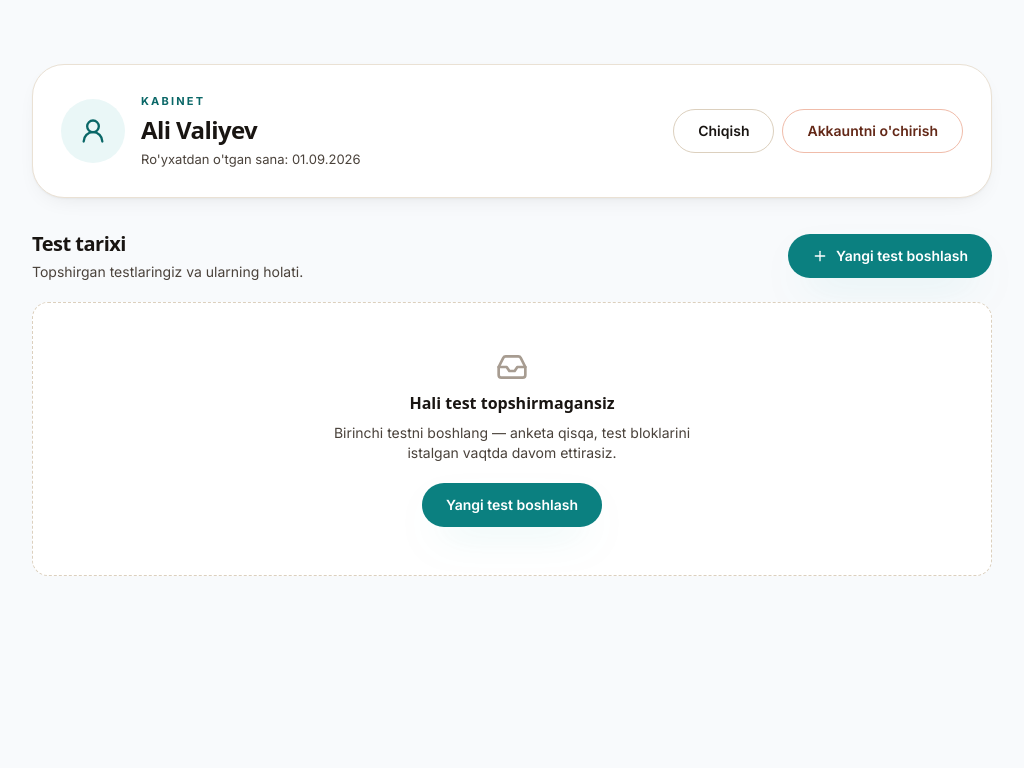
Test case: AccountPage › tasdiqlangach `DELETE /api/me` yuboriladi va sessiya tozalanadi
Expected: the text "Hali test topshirmagansiz" is shown, x1=409 y1=391 x2=615 y2=415
Step 1. Click the button "Akkauntni o'chirish" → x=873, y=131, box x1=782 y1=109 x2=963 y2=153
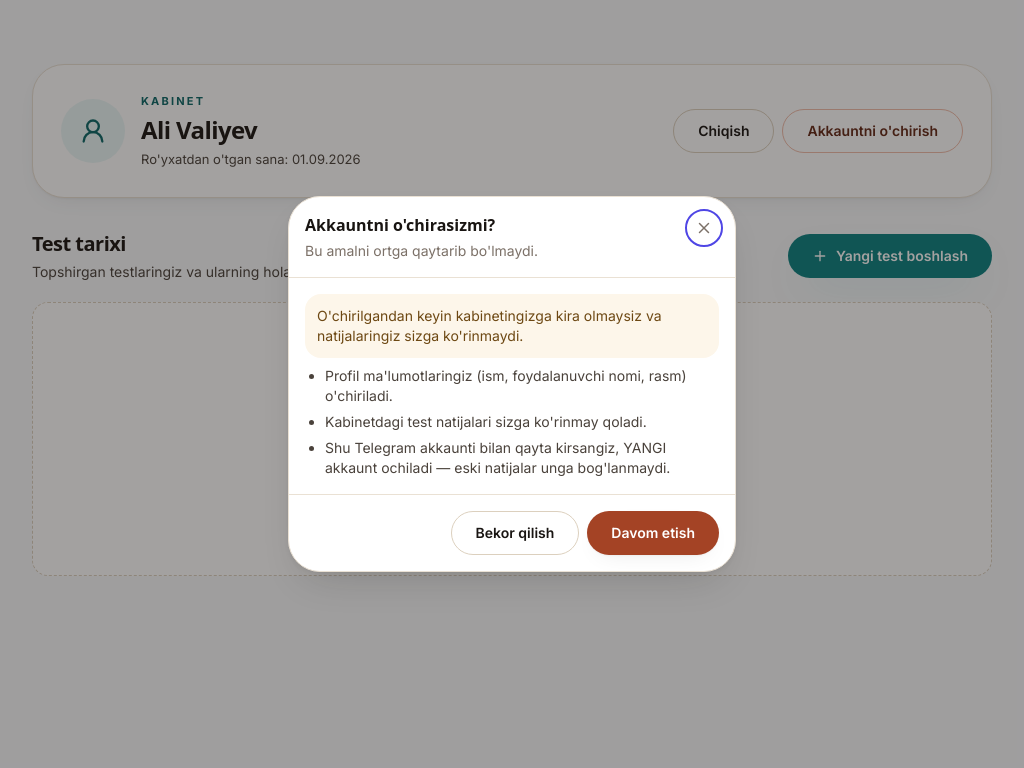
Note: 1-qadam — hozirgi oqibatlar tasdig'i, hali O'CHIRMAYDI.
Step 2. Click the button "Davom etish" → x=653, y=533, box x1=587 y1=511 x2=719 y2=555
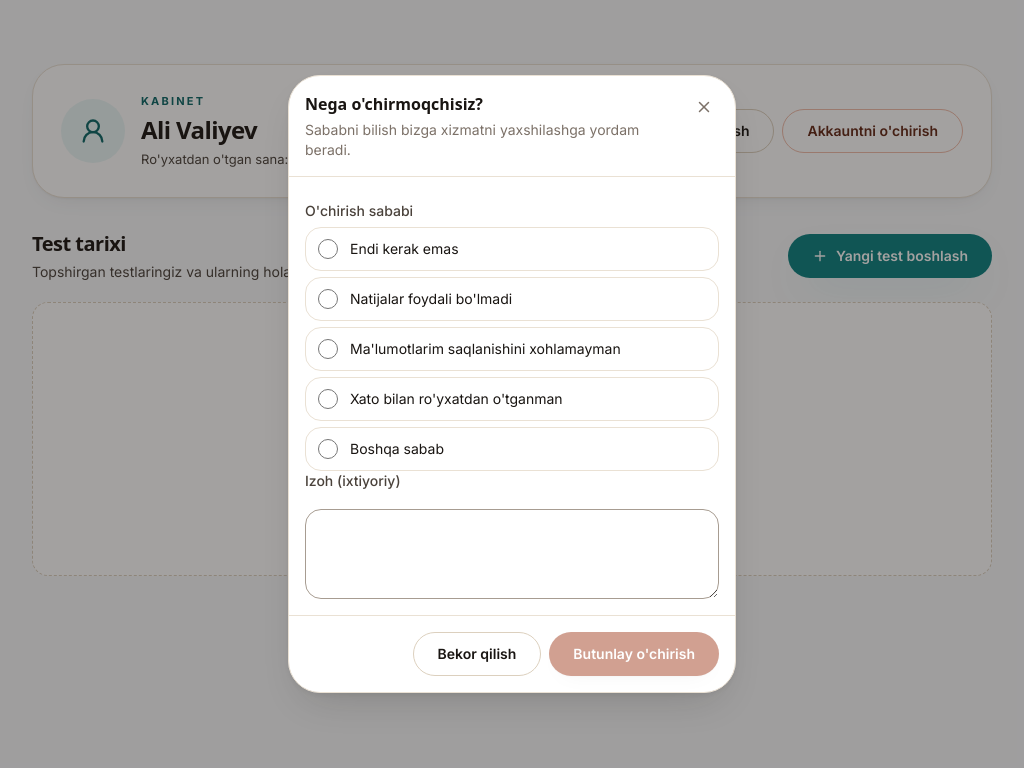
Result: the text "O'chirish sababi" is shown at x1=305 y1=201 x2=413 y2=221
Step 3. Click the radio button labelled "Endi kerak emas" → x=328, y=249, box x1=318 y1=239 x2=338 y2=259
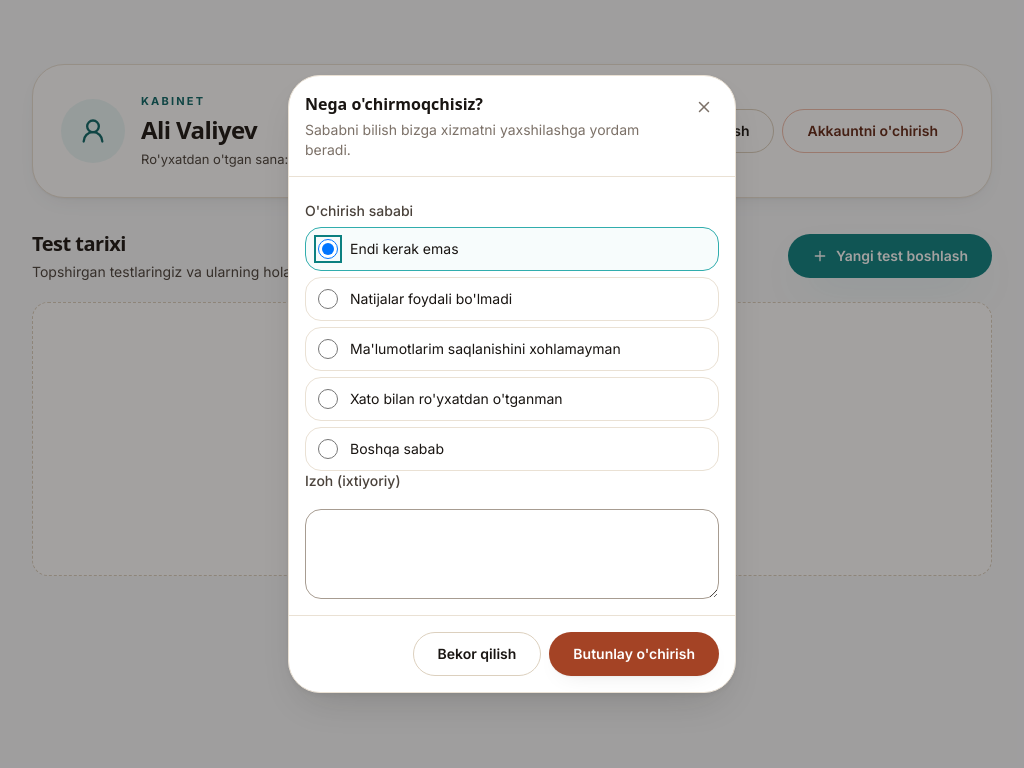
Step 4. Click the button "Butunlay o'chirish" → x=634, y=654, box x1=549 y1=632 x2=719 y2=676
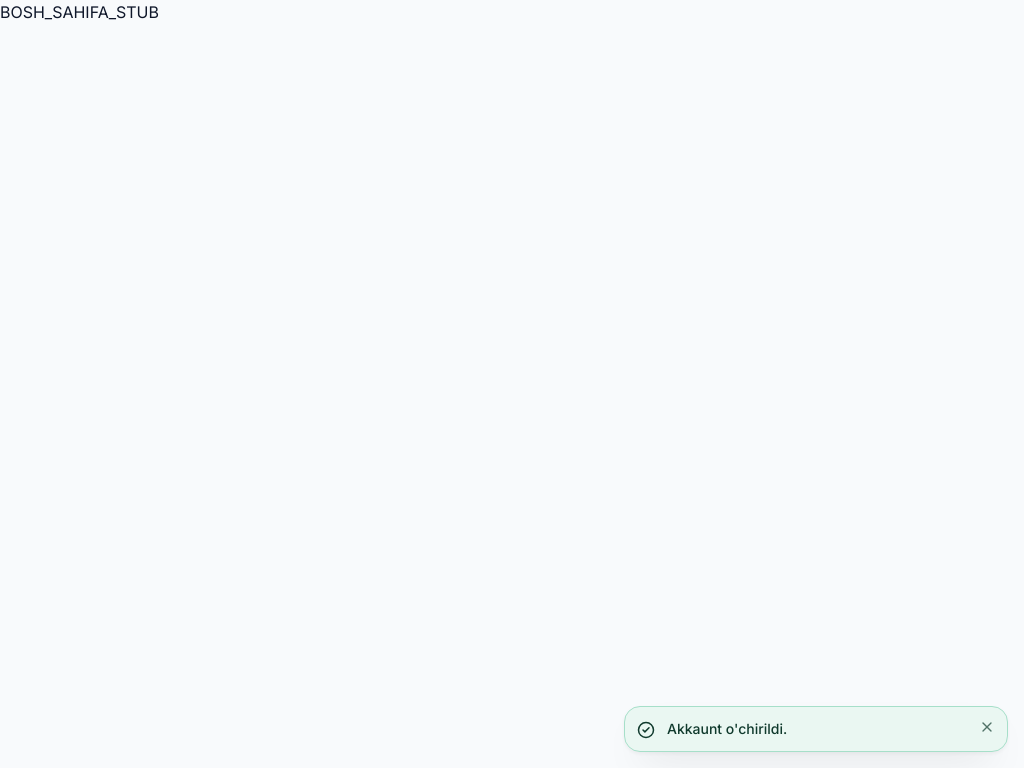
Result: the text "BOSH_SAHIFA_STUB" is shown at x1=0 y1=2 x2=159 y2=22
